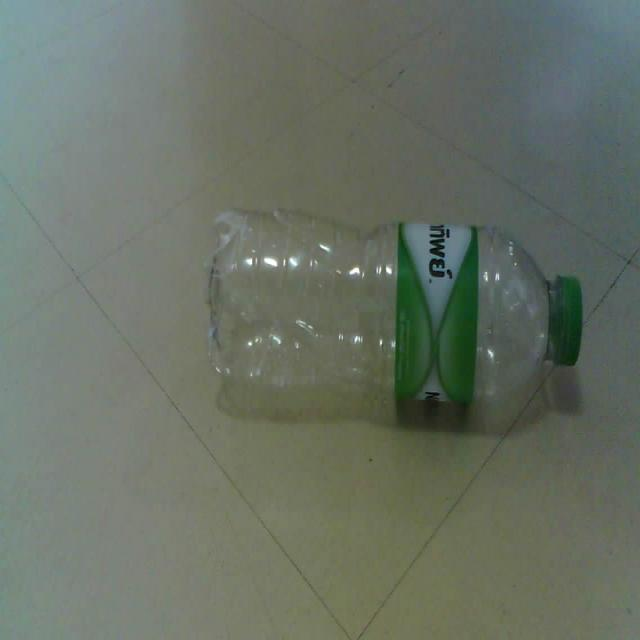empty: (207, 210, 583, 412)
